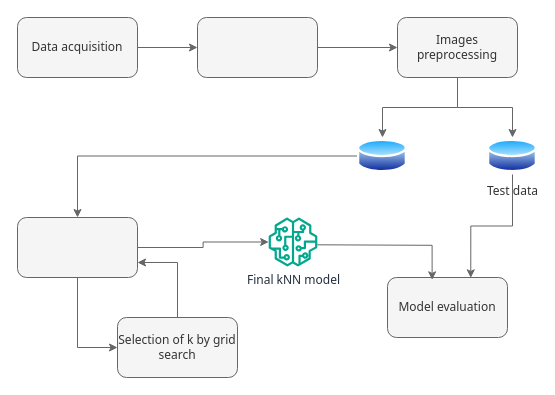
This 555x395 diagram has some shape labels left out. Here are the shapes that lost their labels. From the top down, the centre of each, then its label:
At point (257, 47): "Images visualization".
At point (382, 155): "Training data".
At point (77, 247): "Model training (create kNN object)".
